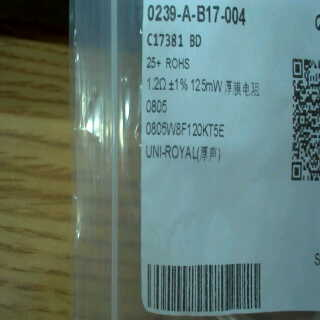1.2R: (146, 73, 168, 114)
